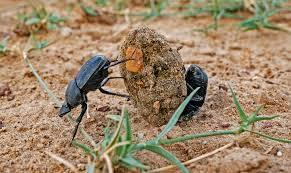insect: (50, 50, 139, 150), (176, 62, 210, 126)
